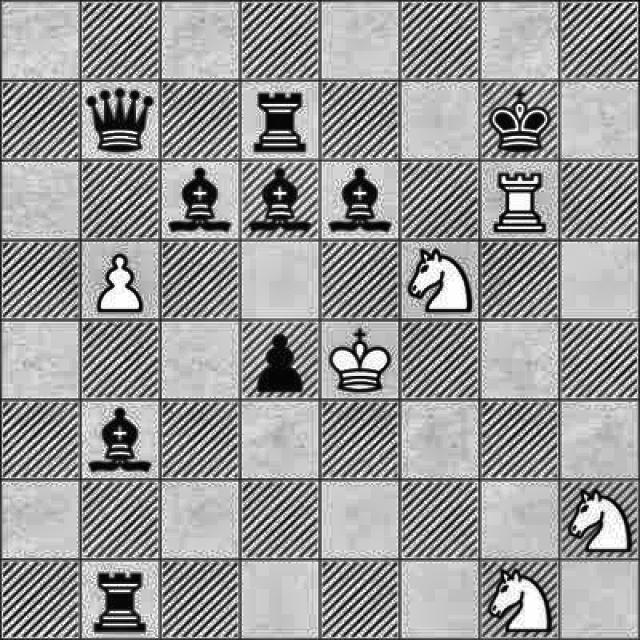black bishop: (82, 405, 160, 478), (163, 166, 239, 238), (246, 165, 316, 238), (326, 161, 396, 232)
black king: (482, 80, 558, 157)
black pawn: (250, 323, 310, 395)
black queen: (84, 80, 158, 161)
black rook: (80, 563, 157, 640), (242, 84, 318, 157)
white king: (322, 319, 395, 395)
white pawn: (90, 244, 153, 316)
white rook: (490, 167, 548, 238)
whiteknight: (482, 558, 557, 640), (404, 240, 478, 319), (564, 481, 638, 557)
